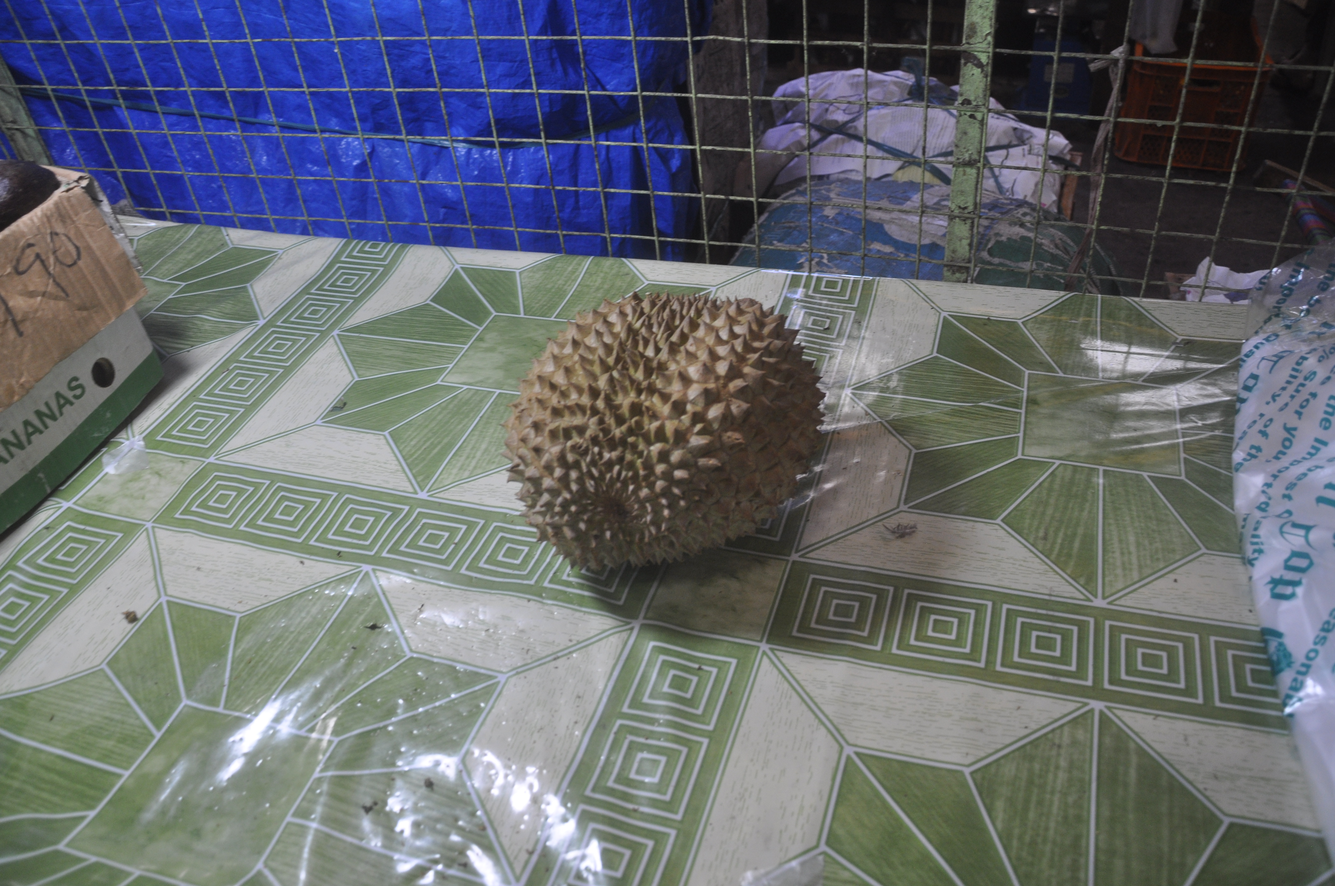mature: (505, 293, 823, 568)
